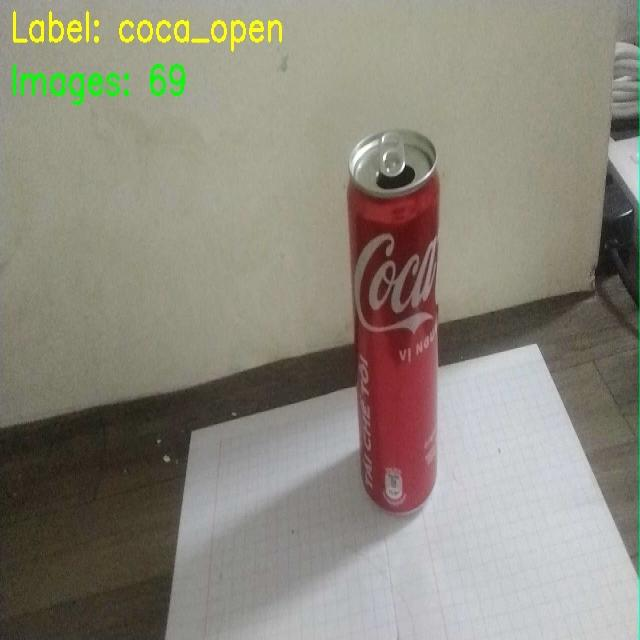Coca_open: (346, 123, 489, 538)
